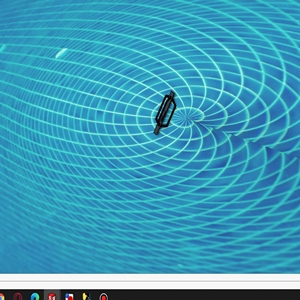submarine: (150, 89, 176, 132)
